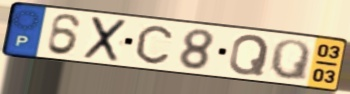6: (45, 12, 82, 57)
8: (177, 27, 216, 72)
C: (134, 24, 175, 66)
Q: (268, 38, 313, 83), (226, 33, 272, 77)
X: (81, 15, 130, 64)
